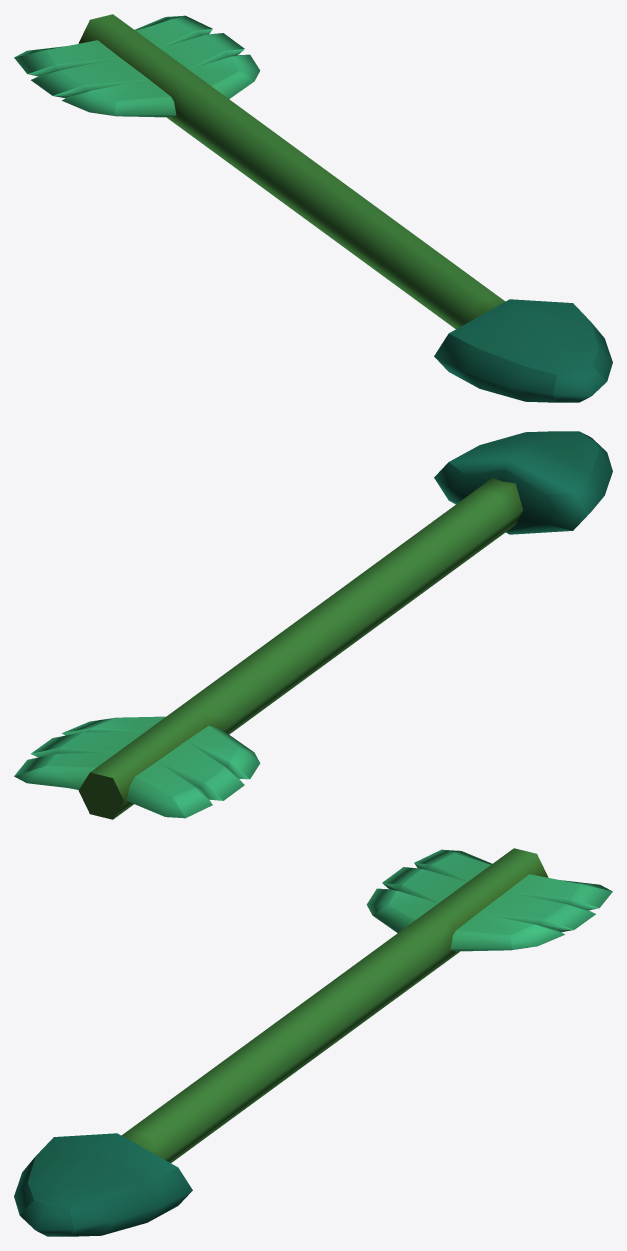
Rendered from Arrow.fbx.
The picture shows the model from 3 angles, top to bottom: view 1: azimuth 30°, elevation 25°; view 2: azimuth 150°, elevation 25°; view 3: azimuth 330°, elevation 25°; orthographic projection.
Visible parts, largest first — view 1: Rotated Arrow; view 2: Rotated Arrow; view 3: Rotated Arrow.
Part boxes in pixels (<box>): Rotated Arrow: <box>14,14,612,402</box>; Rotated Arrow: <box>14,431,612,819</box>; Rotated Arrow: <box>14,848,612,1236</box>.
Size of the model in its own units: 0.2758 by 0.1022 by 1.23.
